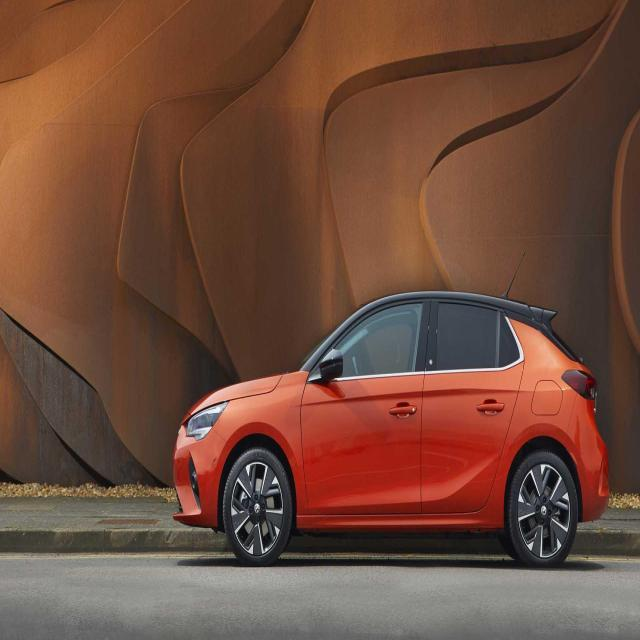Hatchback: (173, 292, 609, 567)
